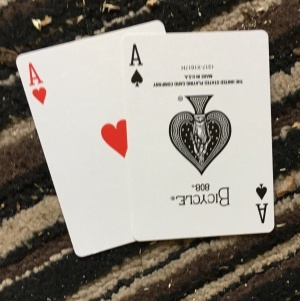card: (122, 33, 276, 235), (15, 45, 130, 256)
